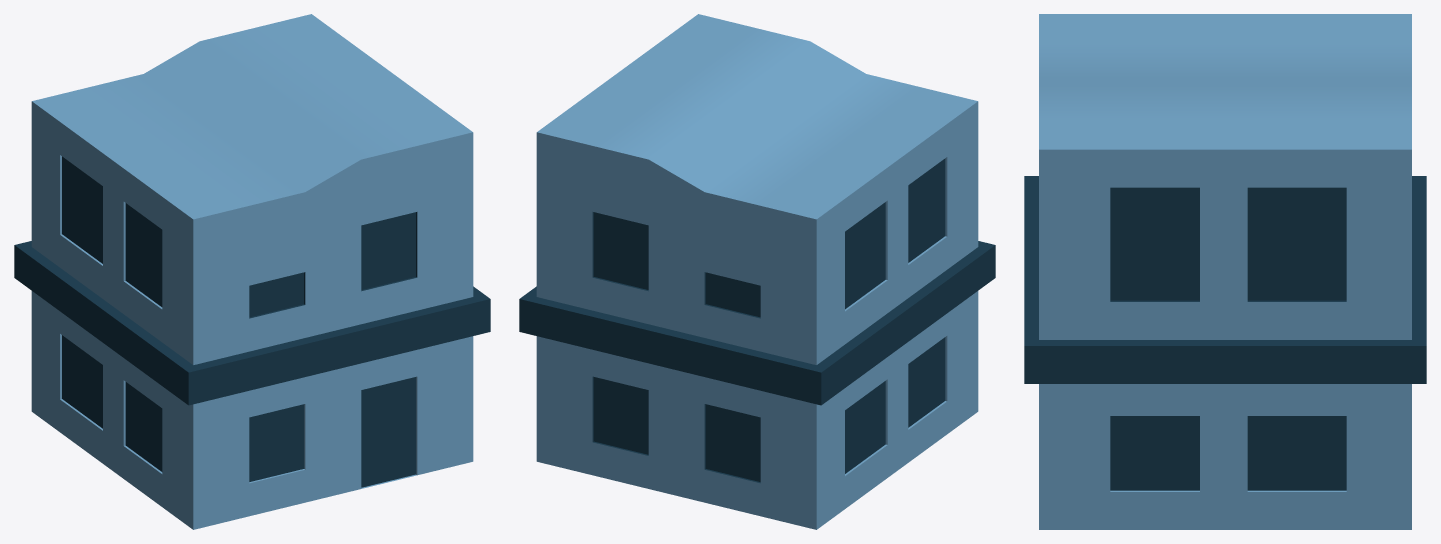
The model's file is House2_M_v1_Carrie.FBX.
3 views of the same model, side by side, from view 1: azimuth 30°, elevation 25°; view 2: azimuth 150°, elevation 25°; view 3: azimuth 270°, elevation 25° (orthographic). The views are drawn at different scales.
Parts seen in each view (by area): view 1: House2; view 2: House2; view 3: House2.
Boxes of the visible parts, x1,y1,x2,y2 form: House2: (14,14,490,529); House2: (519,14,995,529); House2: (1024,14,1426,529).
Size of the model in its own units: 863 by 900 by 863.
